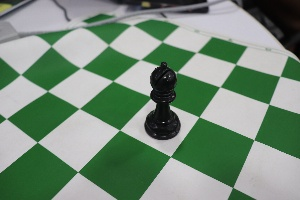black_bishop: (141, 57, 187, 142)
